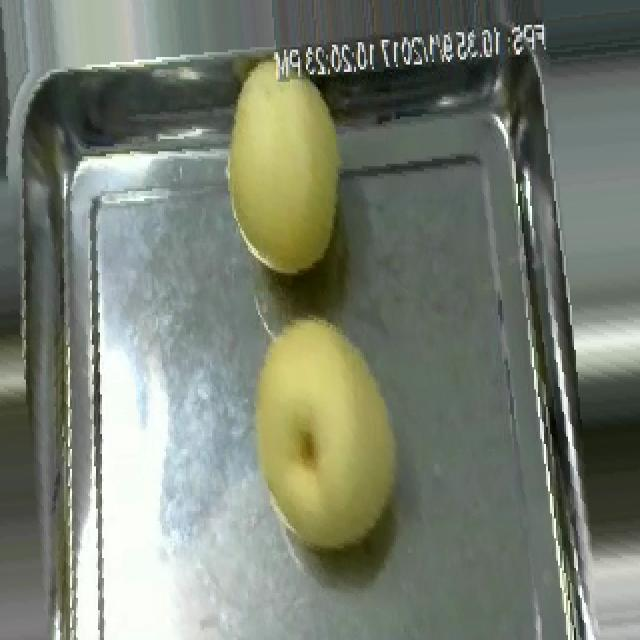Fruit: (238, 308, 416, 566), (214, 47, 360, 285)
